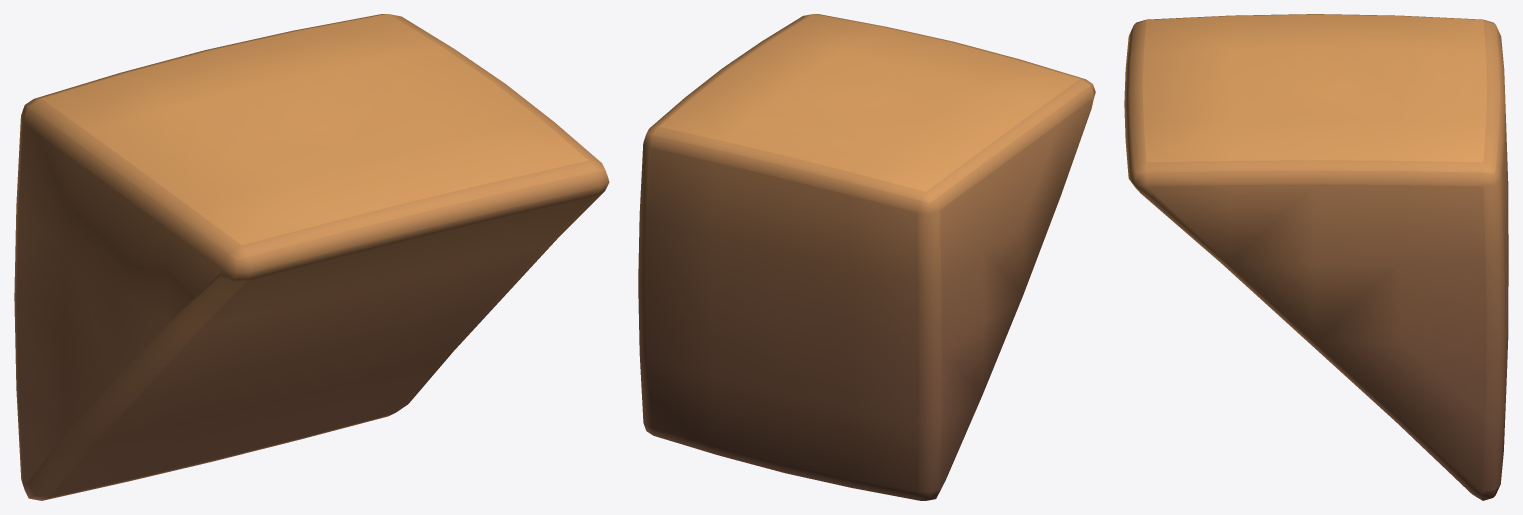
The model's file is Clay_Plain_SlopeUnder_Light.fbx.
3 views of the same model, side by side, from view 1: azimuth 30°, elevation 25°; view 2: azimuth 150°, elevation 25°; view 3: azimuth 270°, elevation 25° (orthographic). The views are drawn at different scales.
Parts seen in each view (by area): view 1: Clay_Plain_SlopeUnder_Light_LOD0; view 2: Clay_Plain_SlopeUnder_Light_LOD0; view 3: Clay_Plain_SlopeUnder_Light_LOD0.
Boxes of the visible parts, x1,y1,x2,y2 form: Clay_Plain_SlopeUnder_Light_LOD0: (14, 14, 609, 500); Clay_Plain_SlopeUnder_Light_LOD0: (638, 14, 1095, 500); Clay_Plain_SlopeUnder_Light_LOD0: (1124, 14, 1508, 500).
Size of what is drawn, in the model's own units: 1.09 by 1.08 by 1.08.
